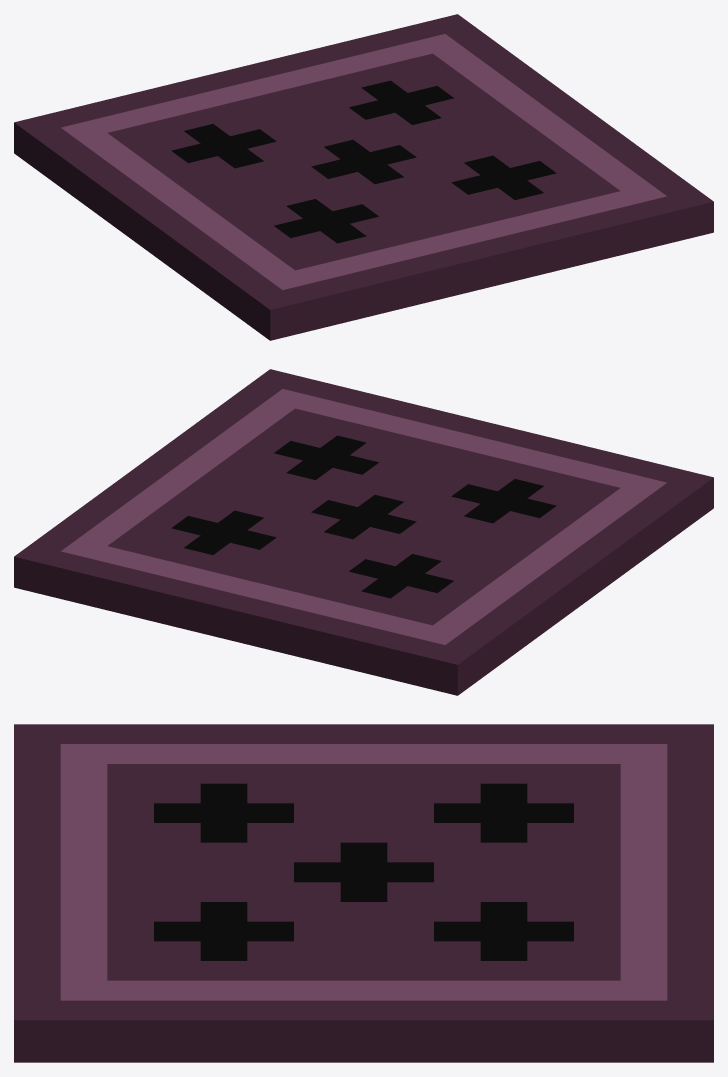
The model's file is dungeon_c_a_ground_b_b.obj.
3 views of the same model, one above another, from view 1: azimuth 30°, elevation 25°; view 2: azimuth 150°, elevation 25°; view 3: azimuth 270°, elevation 25° (orthographic). The views are drawn at different scales.
Size of the model in its own units: 1.5 by 0.1 by 1.5.
Materials: 1 (1 with a texture image).
